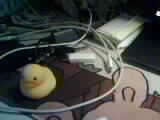duck: (15, 60, 60, 100)
